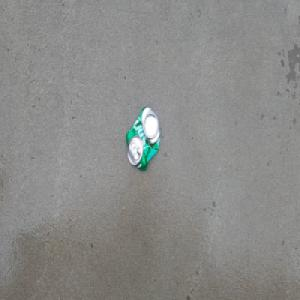SodaCan: (125, 105, 162, 174)
